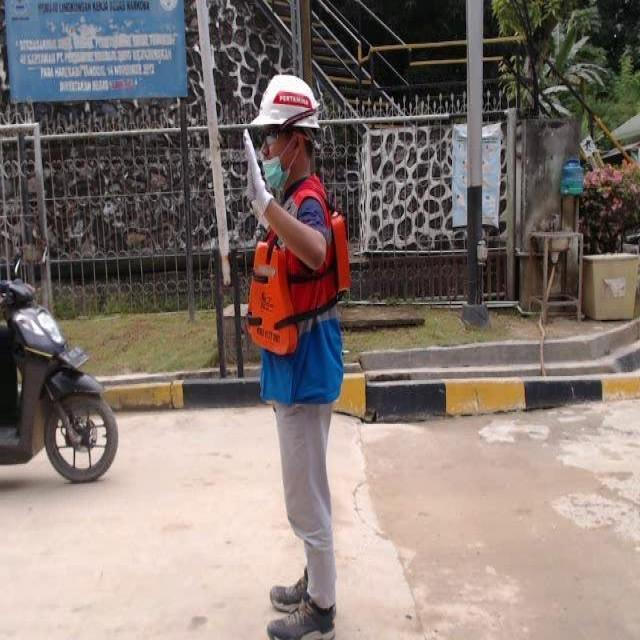hat: (248, 65, 322, 133)
